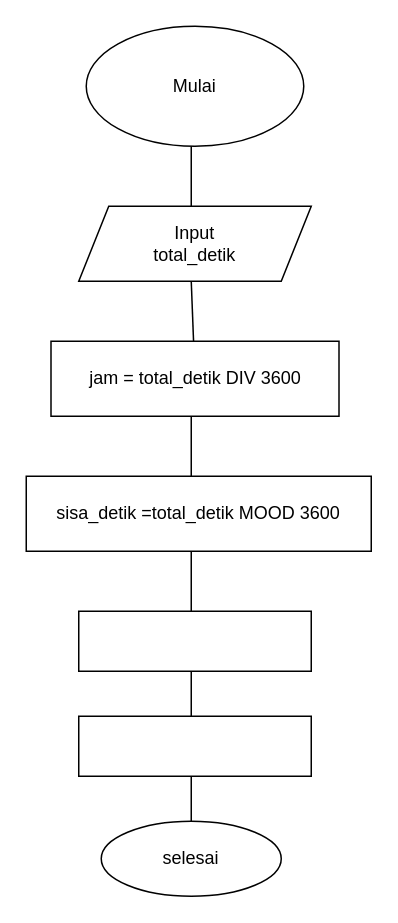
The diagram is 398 pixels wide and 923 high, and some of its shapes have lost their labels. The shapes that lost their labels are listed below. From the top down, each one's centre as x and y in pixels, then its label:
At [194,640]: "menit = sisa_detk DIV 60".
At [194,745]: "detik = sisa_detik MOD 60".
